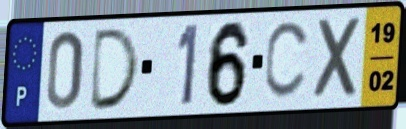0: (44, 28, 87, 114)
1: (174, 21, 200, 109)
6: (203, 18, 254, 110)
C: (261, 19, 313, 103)
D: (87, 25, 143, 114)
X: (312, 14, 366, 104)
